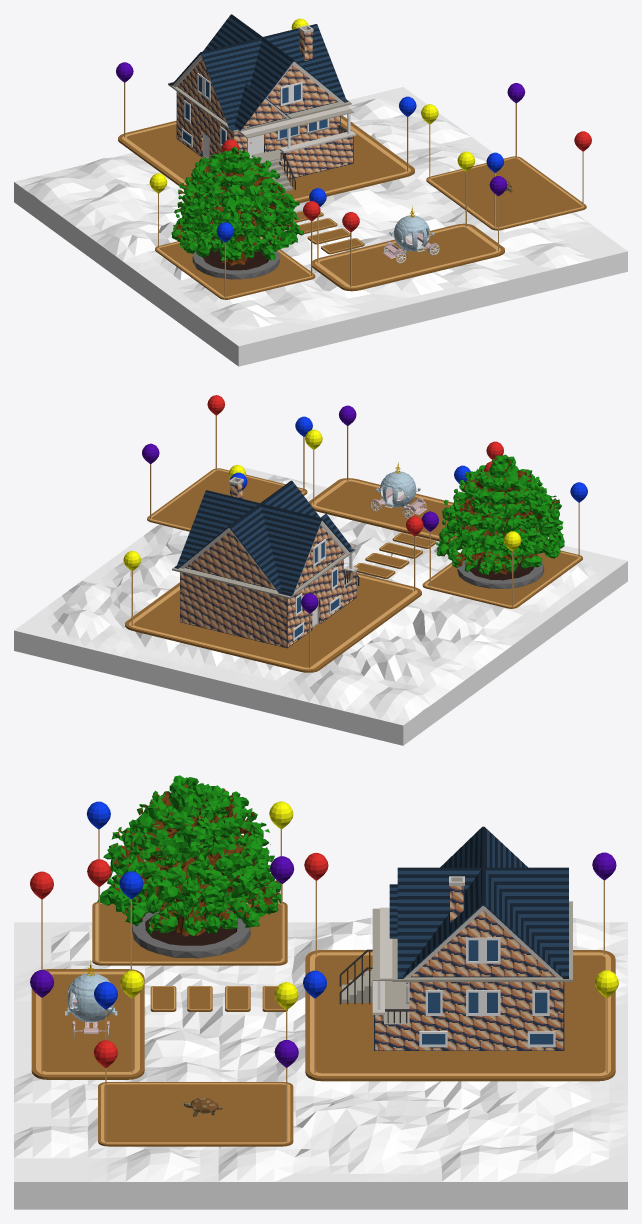
3 renders of one model, top to bottom at view 1: azimuth 30°, elevation 25°; view 2: azimuth 150°, elevation 25°; view 3: azimuth 270°, elevation 25°, orthographic. The views are drawn at different scales.
Parts seen in each view (by area): view 1: Cube.013, Cube.430, OBJRANDOM_CEIBA, VEHICLES_FANTASY_CARRIAGE; view 2: Cube.013, Cube.430, OBJRANDOM_CEIBA, VEHICLES_FANTASY_CARRIAGE; view 3: Cube.013, Cube.430, OBJRANDOM_CEIBA, VEHICLES_FANTASY_CARRIAGE.
Boxes of the visible parts, x1,y1,x2,y2 form: Cube.013: (14, 18, 627, 366); Cube.430: (168, 14, 356, 191); OBJRANDOM_CEIBA: (171, 146, 303, 279); VEHICLES_FANTASY_CARRIAGE: (383, 206, 439, 263); Cube.013: (14, 395, 627, 745); Cube.430: (172, 477, 359, 648); OBJRANDOM_CEIBA: (435, 454, 564, 588); VEHICLES_FANTASY_CARRIAGE: (370, 462, 426, 518); Cube.013: (14, 801, 627, 1209); Cube.430: (339, 826, 572, 1050); OBJRANDOM_CEIBA: (97, 775, 281, 958); VEHICLES_FANTASY_CARRIAGE: (65, 960, 117, 1038).
Size of the model in its own units: 4000 by 1789 by 4000.
33 materials, 2 textured.
